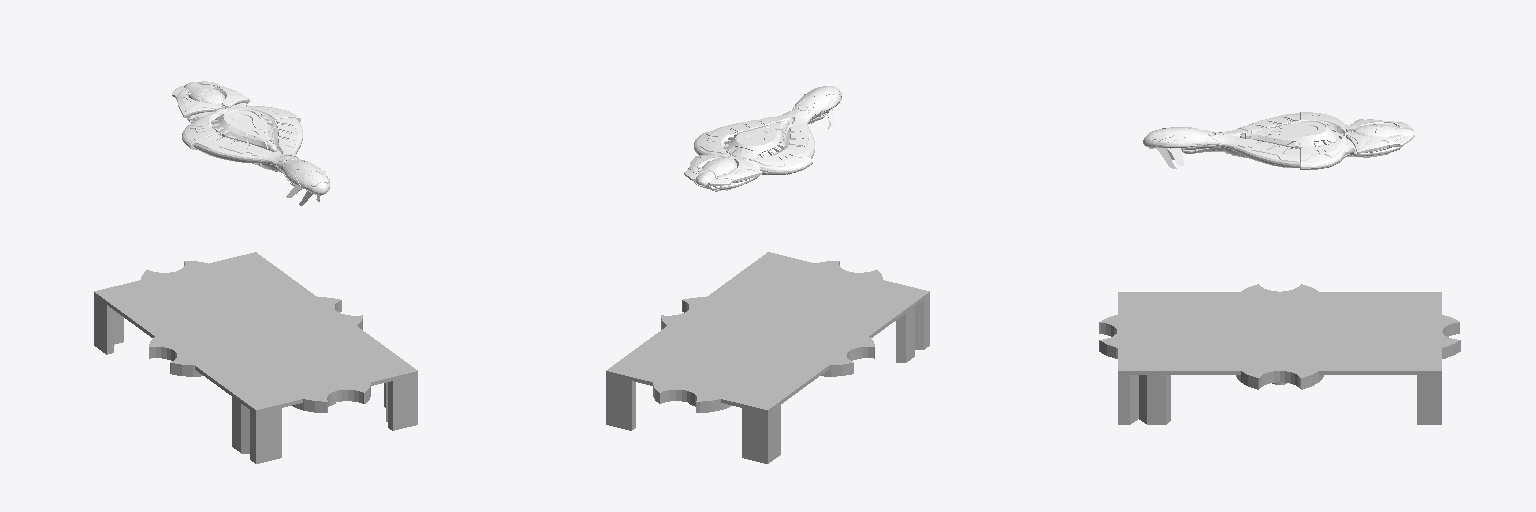
The model's file is crs-armada.obj.
The picture shows the model from 3 angles: view 1: azimuth 30°, elevation 25°; view 2: azimuth 150°, elevation 25°; view 3: azimuth 270°, elevation 25°; orthographic projection.
Parts seen in each view (by area): view 1: Base_-_Small_Plane.001, FRIGATE_COVCCS_FRIGATE_COVCCS.001; view 2: Base_-_Small_Plane.001, FRIGATE_COVCCS_FRIGATE_COVCCS.001; view 3: Base_-_Small_Plane.001, FRIGATE_COVCCS_FRIGATE_COVCCS.001.
Part boxes in pixels (left/top/right/bottom): Base_-_Small_Plane.001: left=94, top=252, right=417, bottom=463; FRIGATE_COVCCS_FRIGATE_COVCCS.001: left=172, top=81, right=329, bottom=205; Base_-_Small_Plane.001: left=606, top=252, right=929, bottom=463; FRIGATE_COVCCS_FRIGATE_COVCCS.001: left=684, top=86, right=841, bottom=191; Base_-_Small_Plane.001: left=1099, top=284, right=1460, bottom=424; FRIGATE_COVCCS_FRIGATE_COVCCS.001: left=1143, top=112, right=1414, bottom=169.
Size of the model in its own units: 1.92 by 2.45 by 3.11.